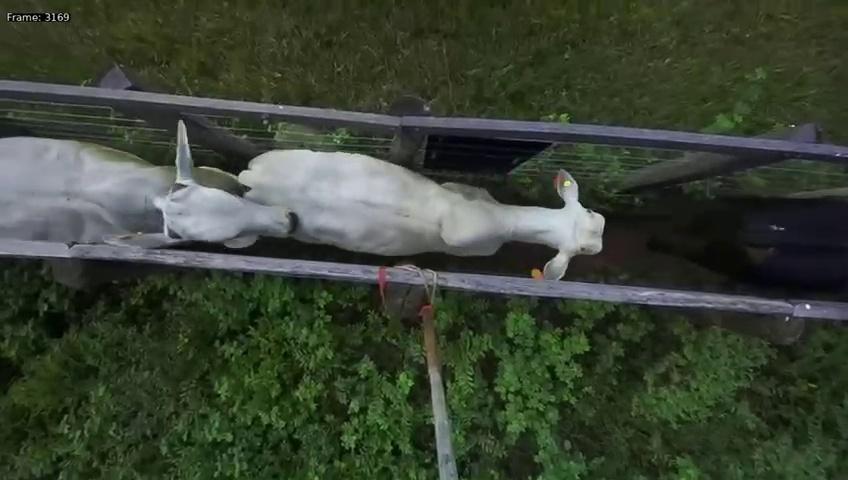cattle: (234, 139, 605, 281), (0, 108, 306, 257)
